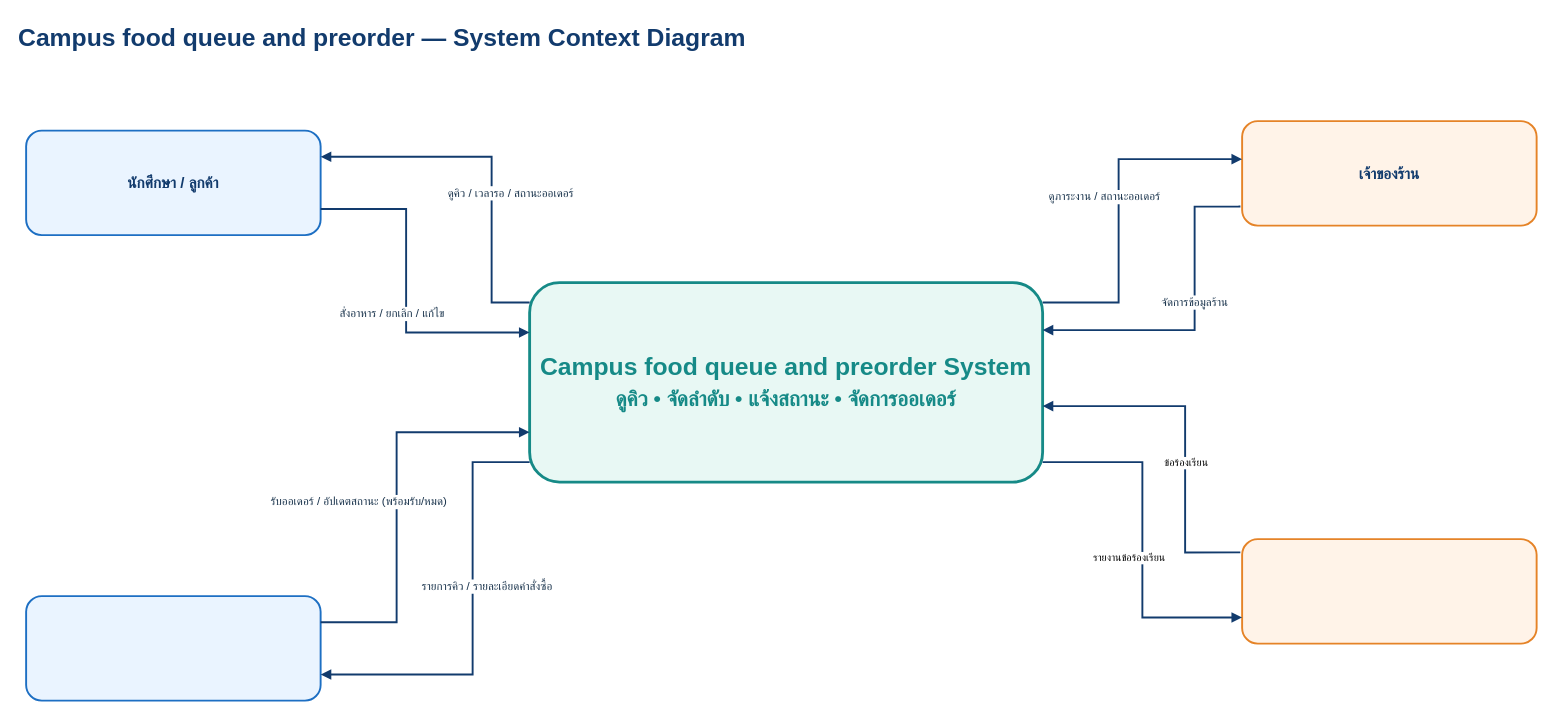
This 1553x717 diagram has some shape labels left out. Here are the shapes that lost their labels. From the top down, the centre of each, then its label:
[1389,591]: ผู้ดูแลพื้นที่อาหาร
[173,648]: พนักงานร้าน
